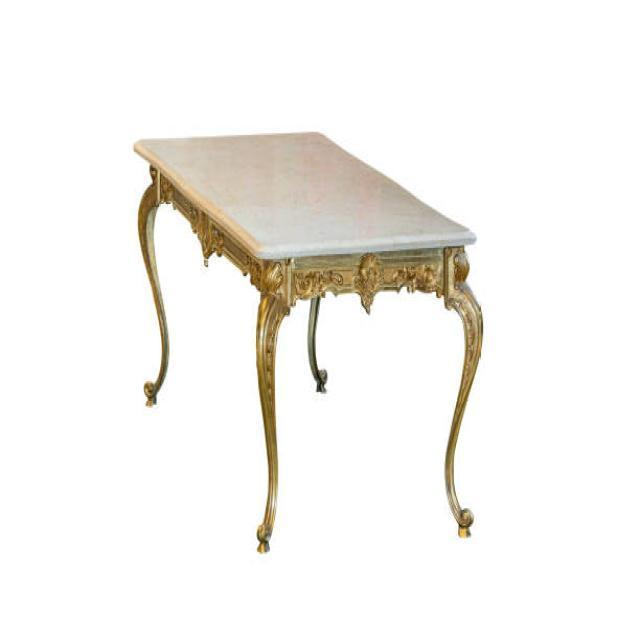table: (132, 128, 484, 554)
